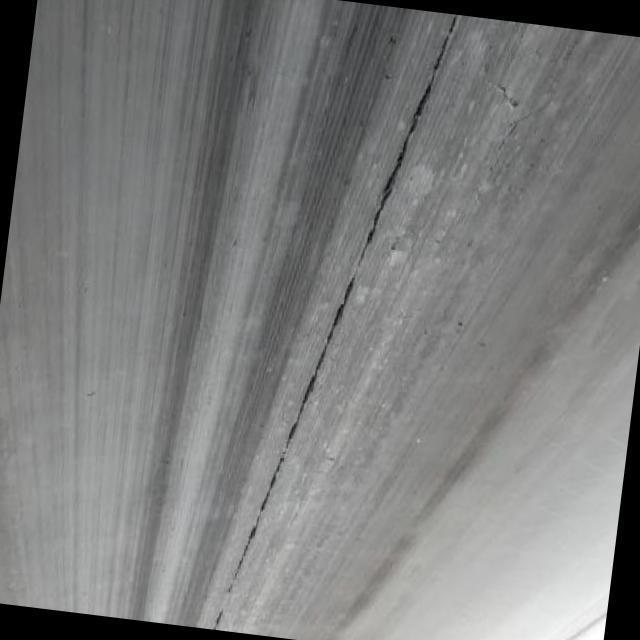Tear: (210, 11, 463, 632)
